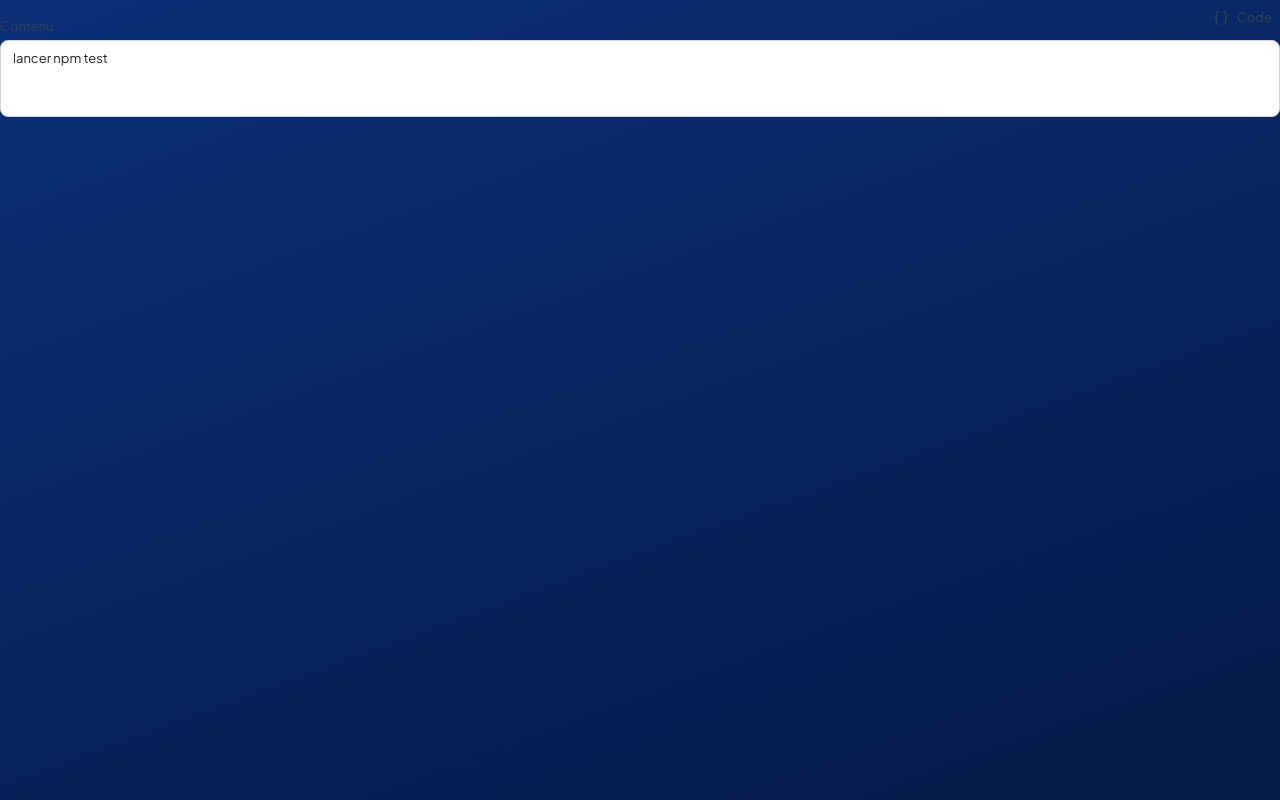
it: CodeTextarea › insère du code en ligne
This screenshot has width=1280, height=800.
Press Enter in the button "Code", box x1=1205 y1=0 x2=1279 y2=36
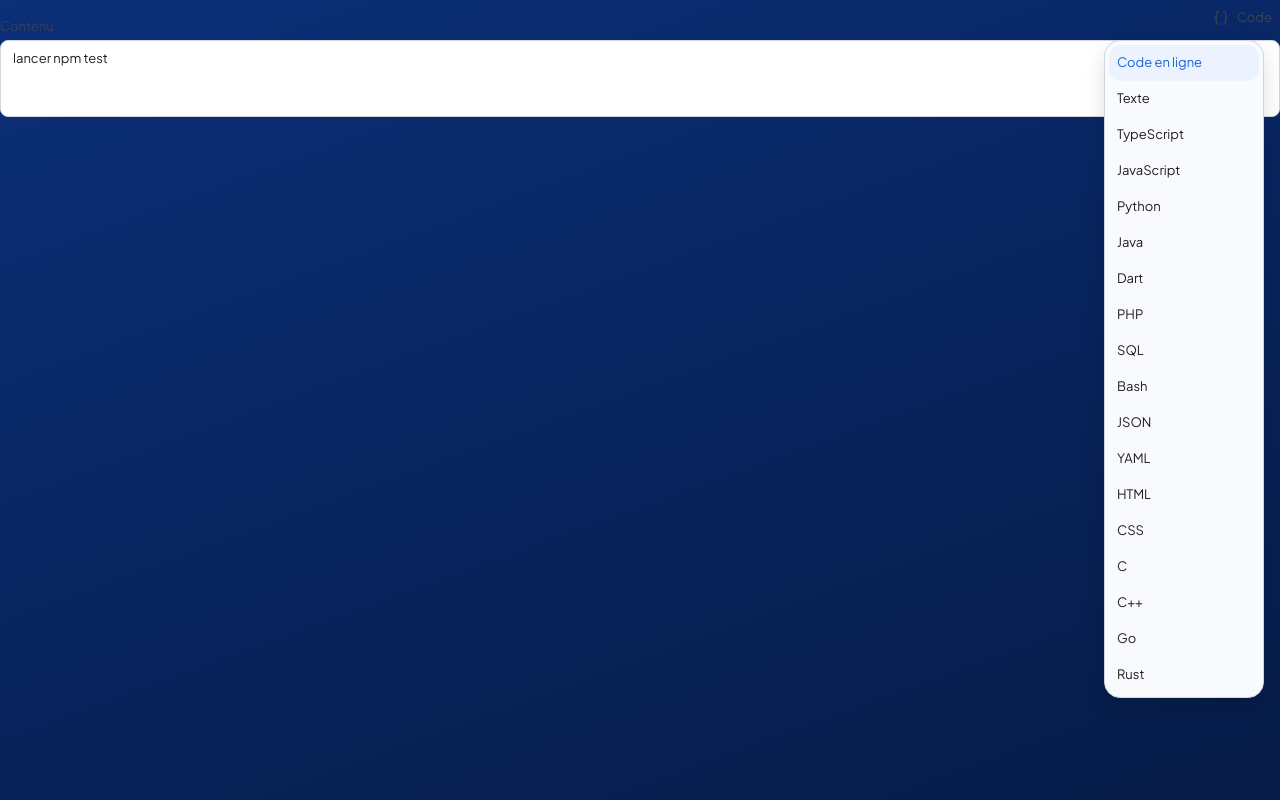
Click the menu item "Code en ligne": (1184, 63) x1=1109 y1=45 x2=1259 y2=81
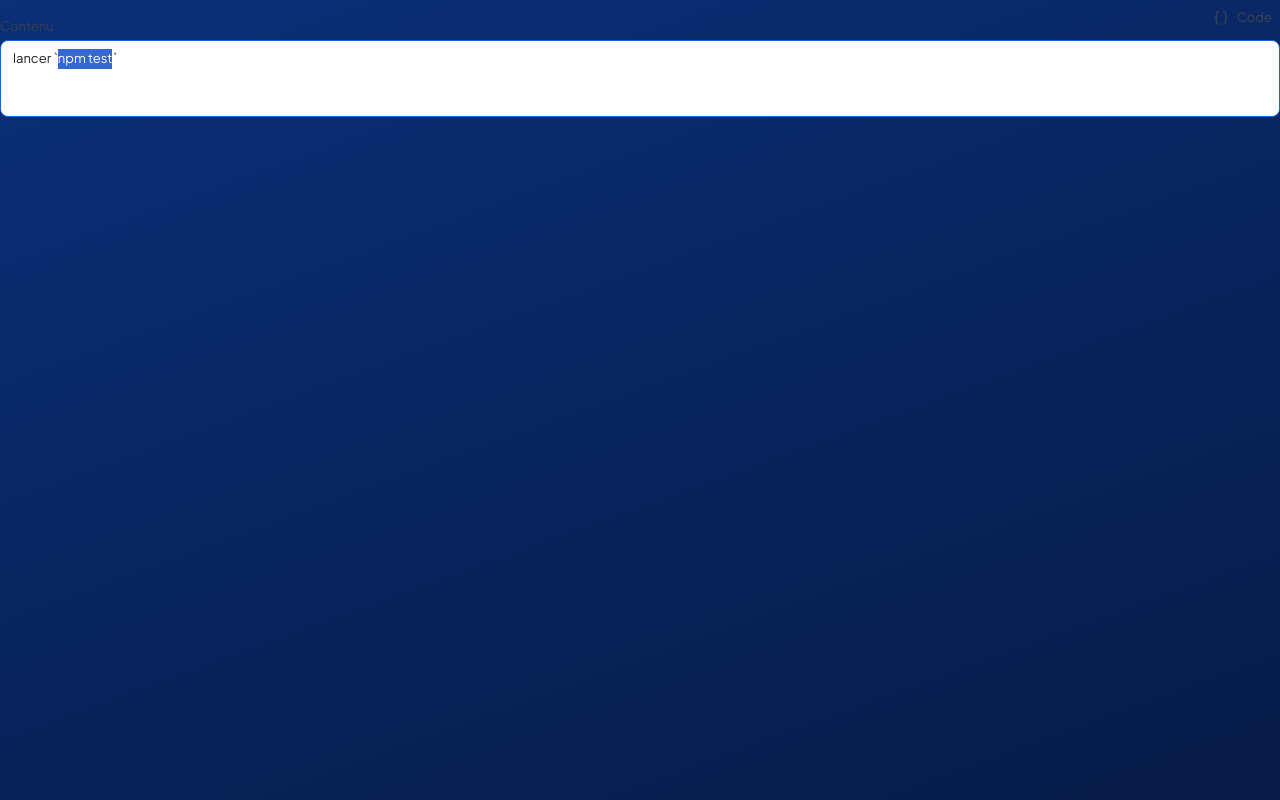
Check: the text box labelled "Contenu" holds "lancer `npm test`", box x1=0 y1=40 x2=1279 y2=117
